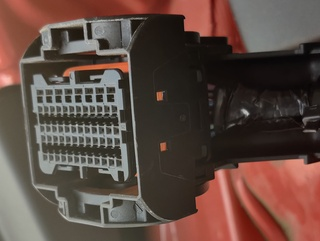connector: (19, 13, 207, 229)
